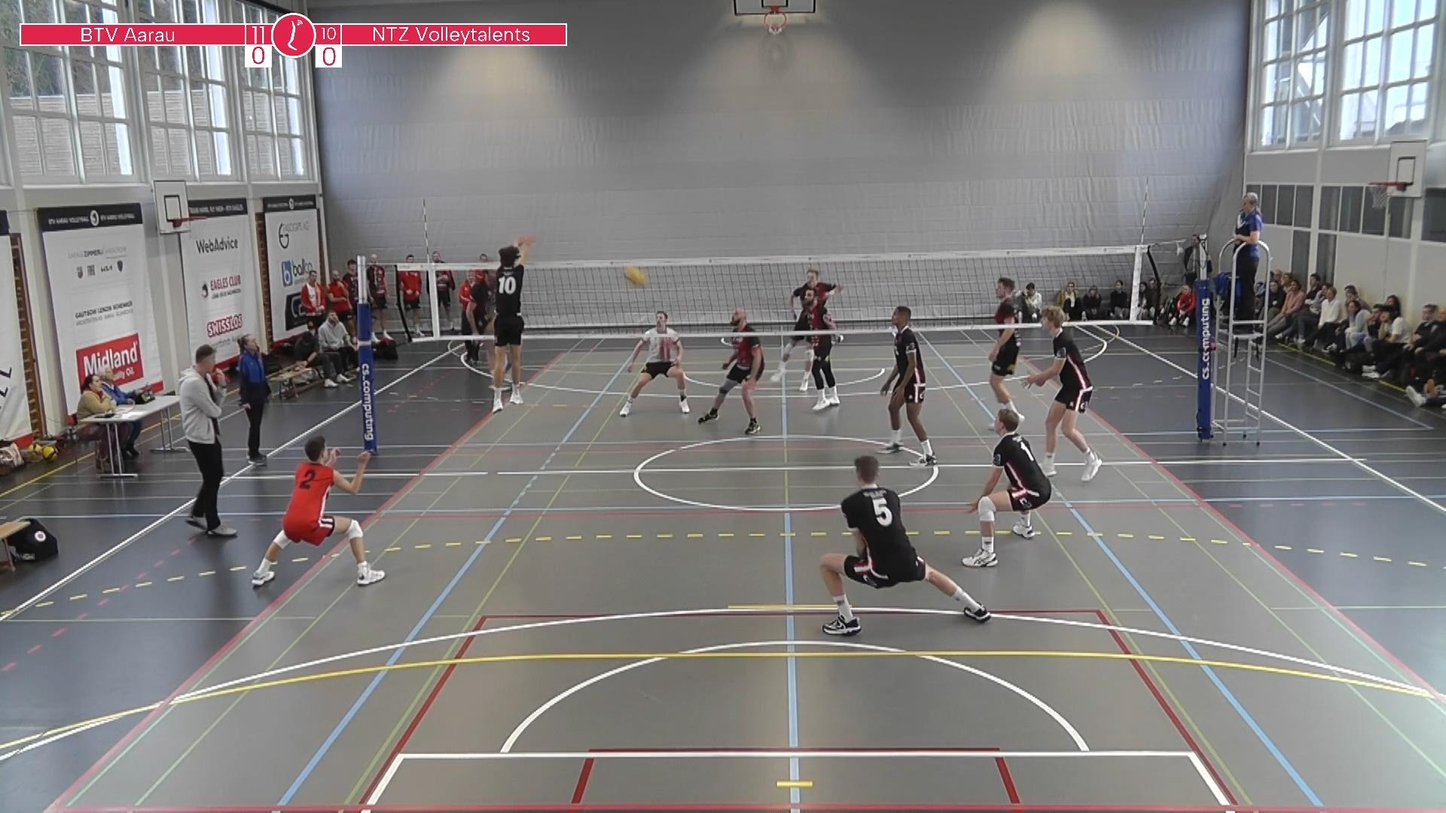Block: (471, 231, 539, 408)
Dig: (813, 452, 990, 637), (959, 405, 1052, 567)
Player: (252, 436, 384, 586), (1026, 306, 1101, 482), (880, 306, 936, 465), (698, 307, 764, 434), (619, 310, 689, 416), (988, 277, 1022, 422), (808, 333, 840, 411), (789, 269, 840, 310)
ball: (618, 261, 657, 299)
